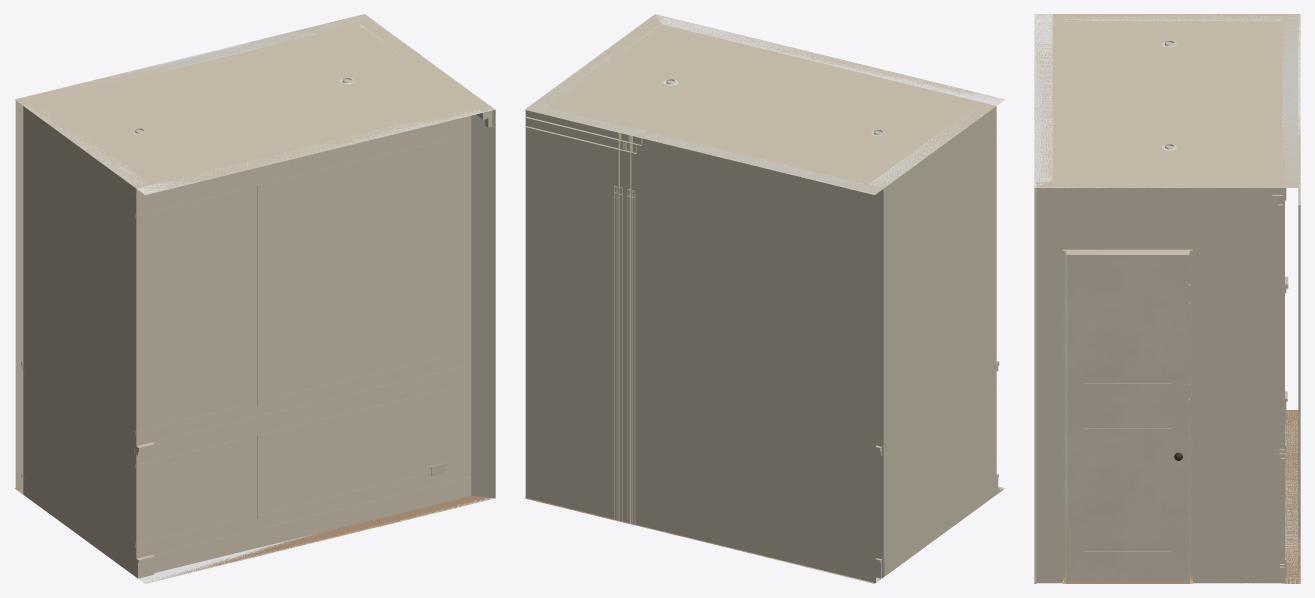
The model's file is upstairs-closet-east-901778551a1e.glb.
3 views of the same model, side by side, from view 1: azimuth 30°, elevation 25°; view 2: azimuth 150°, elevation 25°; view 3: azimuth 270°, elevation 25° (orthographic).
Visible parts, largest first — view 1: upstairs-closet-east-6e269356ae8bfd70, upstairs-closet-east-af27112094daa34f, upstairs-closet-east-9d91b47435c6fb33, upstairs-closet-east-414385708a06acff, upstairs-closet-east-eb02897c2e79e2b1, upstairs-closet-east-1e72e6a7b41a2abd, upstairs-closet-east-23111371382874c8, upstairs-closet-east-1e3385c37a14aaf6, upstairs-closet-east-eee6b1654fa02f80, upstairs-closet-east-2575515a05775d9e, upstairs-closet-east-a5ac74805be43788, upstairs-closet-east-50389d3ab124a6e4 (+1 smaller); view 2: upstairs-closet-east-eb02897c2e79e2b1, upstairs-closet-east-af27112094daa34f, upstairs-closet-east-9d91b47435c6fb33, upstairs-closet-east-6e269356ae8bfd70, upstairs-closet-east-64efeecf845bccca, upstairs-closet-east-4f926054fd5f2d50, upstairs-closet-east-ed88f5d795cf56b6, upstairs-closet-east-dacde169422abe77, upstairs-closet-east-d84e51967c6a028c, upstairs-closet-east-23111371382874c8, upstairs-closet-east-3b3c25625ac8bb9a, upstairs-closet-east-e2e3a4ca5a8c504a; view 3: upstairs-closet-east-95684fa6df9df9bf, upstairs-closet-east-9d91b47435c6fb33, upstairs-closet-east-c33a54857fb1d4db, upstairs-closet-east-eb02897c2e79e2b1, upstairs-closet-east-6e269356ae8bfd70, upstairs-closet-east-2575515a05775d9e, upstairs-closet-east-664af2d0241557dd, upstairs-closet-east-3b3c25625ac8bb9a, upstairs-closet-east-e2e3a4ca5a8c504a, upstairs-closet-east-af27112094daa34f, upstairs-closet-east-4f926054fd5f2d50, upstairs-closet-east-23111371382874c8 (+1 smaller).
Part boxes in pixels (x1,y1,x2,y2): upstairs-closet-east-6e269356ae8bfd70: [136, 107, 495, 583]; upstairs-closet-east-af27112094daa34f: [23, 105, 147, 576]; upstairs-closet-east-9d91b47435c6fb33: [15, 14, 494, 194]; upstairs-closet-east-414385708a06acff: [148, 477, 471, 572]; upstairs-closet-east-eb02897c2e79e2b1: [15, 15, 371, 493]; upstairs-closet-east-1e72e6a7b41a2abd: [257, 137, 456, 406]; upstairs-closet-east-23111371382874c8: [132, 115, 471, 205]; upstairs-closet-east-1e3385c37a14aaf6: [134, 364, 471, 453]; upstairs-closet-east-eee6b1654fa02f80: [257, 386, 456, 518]; upstairs-closet-east-2575515a05775d9e: [15, 487, 491, 582]; upstairs-closet-east-a5ac74805be43788: [135, 189, 243, 435]; upstairs-closet-east-50389d3ab124a6e4: [135, 439, 243, 548]; upstairs-closet-east-eb02897c2e79e2b1: [525, 104, 883, 583]; upstairs-closet-east-af27112094daa34f: [869, 106, 996, 576]; upstairs-closet-east-9d91b47435c6fb33: [525, 14, 1004, 194]; upstairs-closet-east-6e269356ae8bfd70: [655, 14, 1004, 490]; upstairs-closet-east-64efeecf845bccca: [618, 132, 631, 523]; upstairs-closet-east-4f926054fd5f2d50: [614, 185, 617, 520]; upstairs-closet-east-ed88f5d795cf56b6: [619, 187, 622, 522]; upstairs-closet-east-dacde169422abe77: [632, 190, 635, 525]; upstairs-closet-east-d84e51967c6a028c: [627, 189, 629, 523]; upstairs-closet-east-23111371382874c8: [657, 27, 995, 115]; upstairs-closet-east-3b3c25625ac8bb9a: [535, 15, 664, 105]; upstairs-closet-east-e2e3a4ca5a8c504a: [860, 102, 977, 184]; upstairs-closet-east-95684fa6df9df9bf: [1036, 180, 1283, 583]; upstairs-closet-east-9d91b47435c6fb33: [1034, 14, 1300, 187]; upstairs-closet-east-c33a54857fb1d4db: [1066, 253, 1189, 581]; upstairs-closet-east-eb02897c2e79e2b1: [1282, 14, 1300, 583]; upstairs-closet-east-6e269356ae8bfd70: [1034, 14, 1052, 583]; upstairs-closet-east-2575515a05775d9e: [1035, 410, 1300, 583]; upstairs-closet-east-664af2d0241557dd: [1062, 249, 1192, 583]; upstairs-closet-east-3b3c25625ac8bb9a: [1036, 182, 1284, 186]; upstairs-closet-east-e2e3a4ca5a8c504a: [1052, 21, 1282, 26]; upstairs-closet-east-af27112094daa34f: [1053, 14, 1282, 398]; upstairs-closet-east-4f926054fd5f2d50: [1299, 205, 1300, 539]; upstairs-closet-east-23111371382874c8: [1052, 14, 1063, 165].
Bounding box in the file's own units: 2.73 × 2.91 × 1.77.
16 materials, 3 textured.
